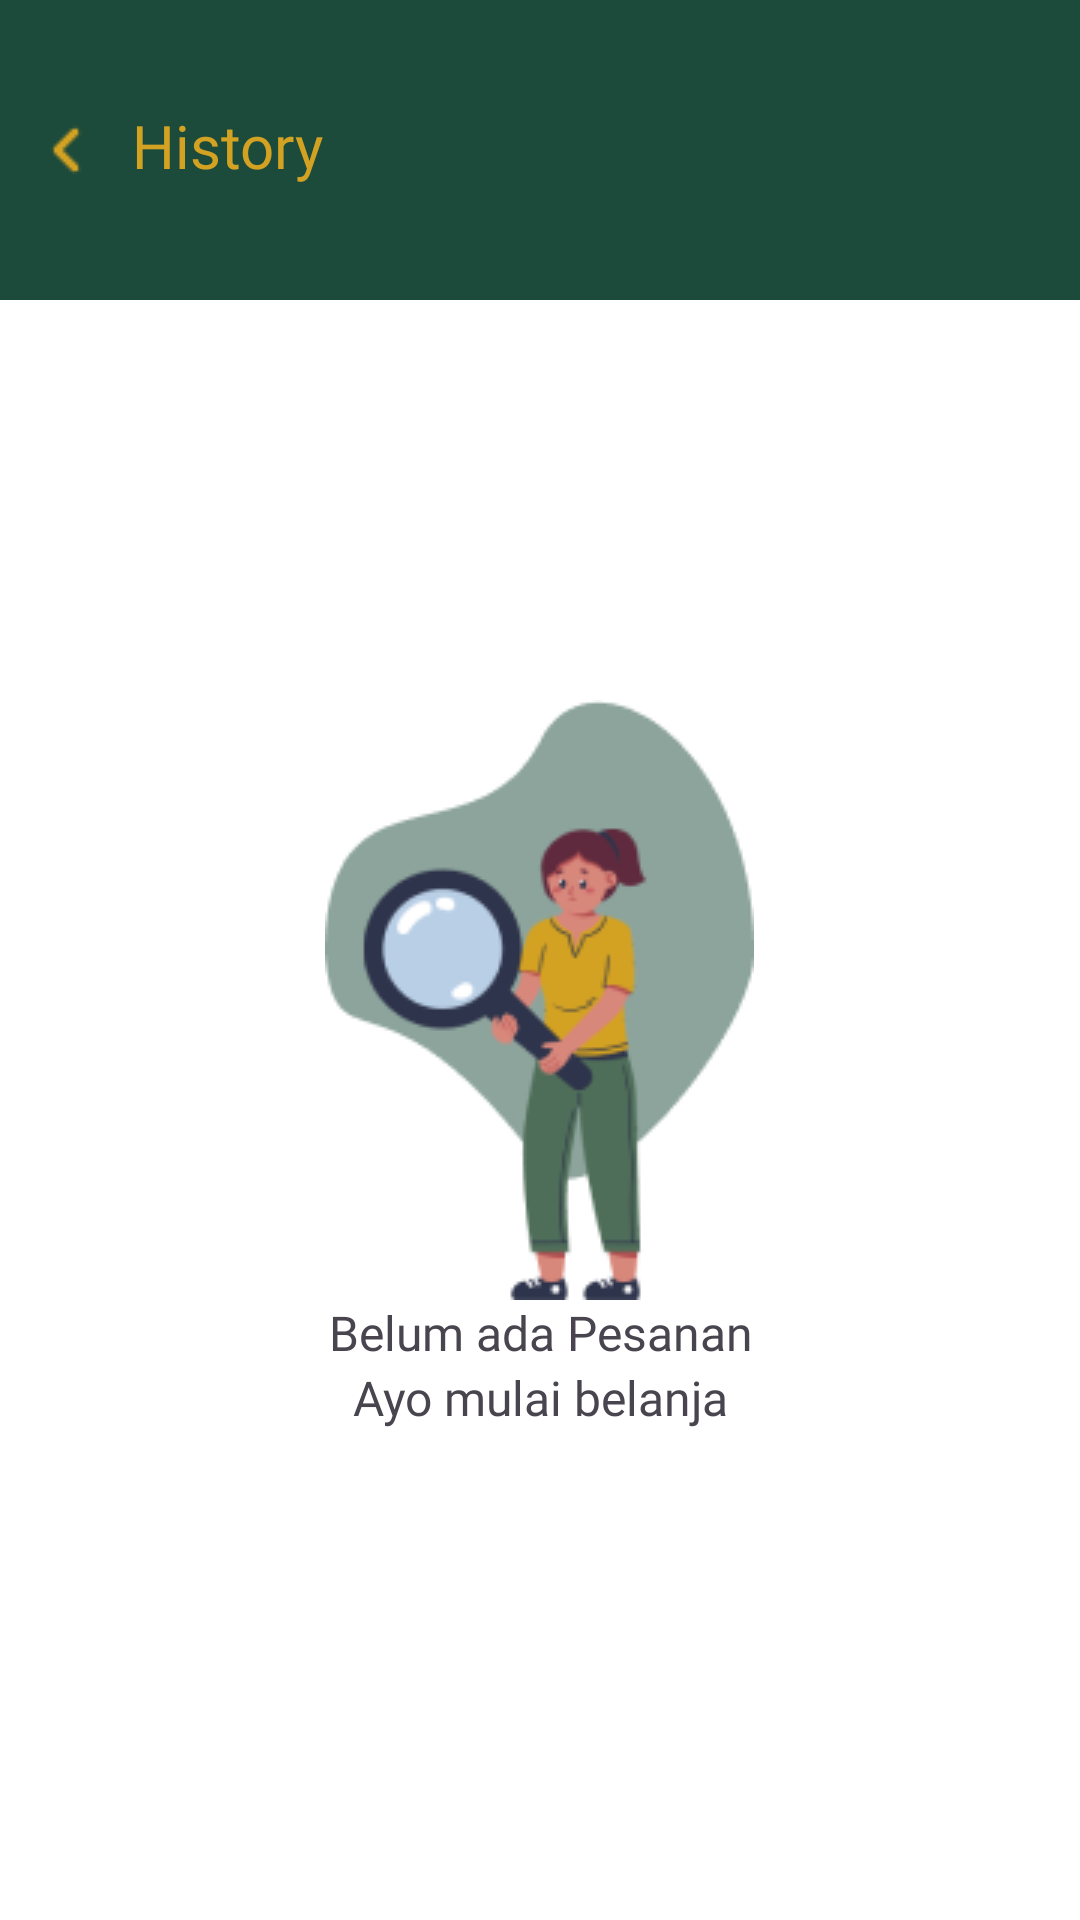

Icons on this 1080 × 1920 Android screen, each with its box as detection(x1, y1, x2, y2):
kembali: detection(53, 128, 79, 172)
